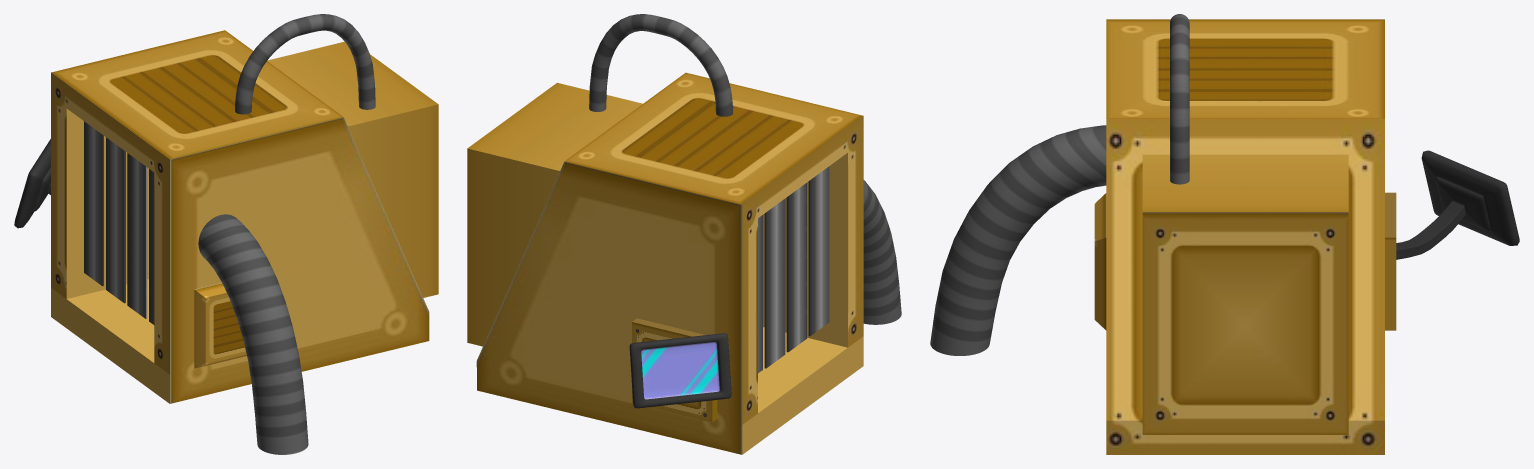
The model's file is machine_industry_2.fbx.
3 renders of one model, left to right at view 1: azimuth 30°, elevation 25°; view 2: azimuth 150°, elevation 25°; view 3: azimuth 270°, elevation 25°, orthographic. The views are drawn at different scales.
Parts seen in each view (by area): view 1: Cube.001_0, Cylinder.003_0, Cylinder.004_0, Cube.003_0, Cube.004_0, Cube.010_0, Cube.012_0, Cube.002_0; view 2: Cube.001_0, Cylinder.004_0, Cylinder.003_0, Cube.012_1, Cube.002_0, Cube.004_0, Cube.003_0, Cube.012_0, Cube.010_0; view 3: Cube.001_0, Cylinder.003_0, Cube.012_0, Cylinder.004_0.
Boxes of the visible parts, x1,y1,x2,y2 form: Cube.001_0: (51, 30, 438, 403); Cylinder.003_0: (198, 214, 308, 454); Cylinder.004_0: (235, 14, 375, 114); Cube.003_0: (127, 153, 147, 318); Cube.004_0: (106, 137, 125, 303); Cube.010_0: (84, 121, 103, 286); Cube.012_0: (14, 139, 50, 228); Cube.002_0: (149, 169, 154, 324); Cube.001_0: (467, 72, 863, 454); Cylinder.004_0: (589, 14, 732, 116); Cylinder.003_0: (863, 180, 901, 324); Cube.012_1: (641, 342, 719, 399); Cube.002_0: (808, 166, 829, 336); Cube.004_0: (764, 198, 785, 368); Cube.003_0: (786, 182, 807, 352); Cube.012_0: (629, 333, 731, 408); Cube.010_0: (758, 215, 762, 373); Cube.001_0: (1094, 19, 1396, 454); Cylinder.003_0: (930, 125, 1106, 355); Cube.012_0: (1396, 150, 1519, 259); Cylinder.004_0: (1170, 14, 1189, 184).
Size of the model in its own units: 3.07 by 3.25 by 4.5.
Materials: 1 (1 with a texture image).
